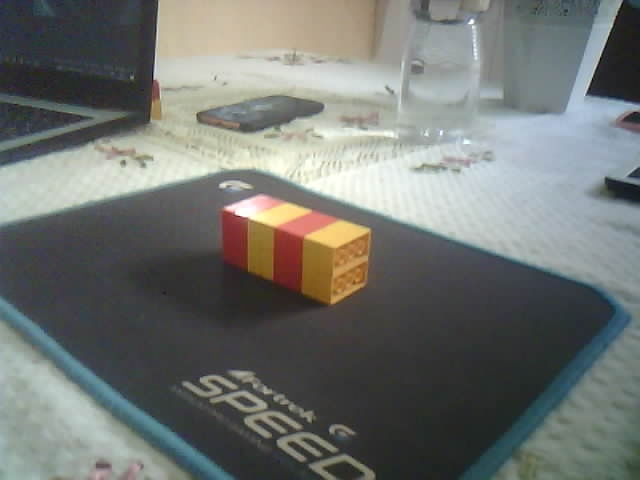lego: (219, 193, 372, 306), (145, 80, 163, 121)
